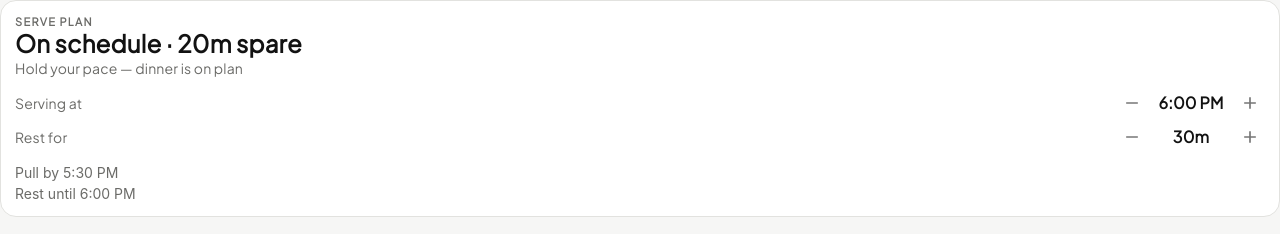
Test: the serve plan card › adds up taps made inside one round trip rather than collapsing them
What coordinates should you click on to do the following:
click the button named "Serve later"
I would click on:
 (1250, 103)
Its box is [1235,88,1265,118].
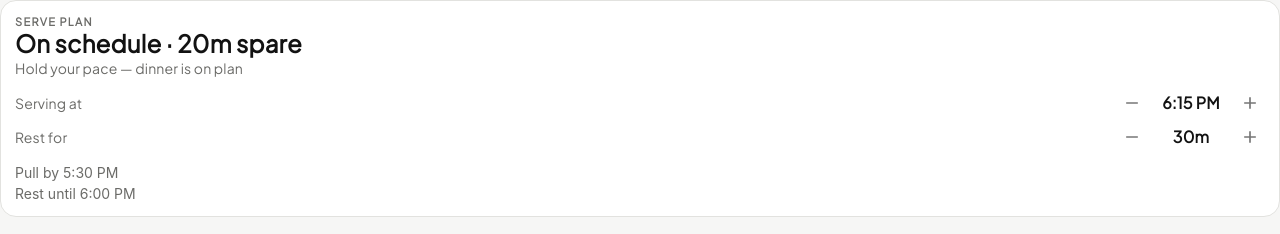
What coordinates should you click on to do the following:
click the button named "Serve later"
I would click on:
 (1250, 103)
Its box is [1235,88,1265,118].
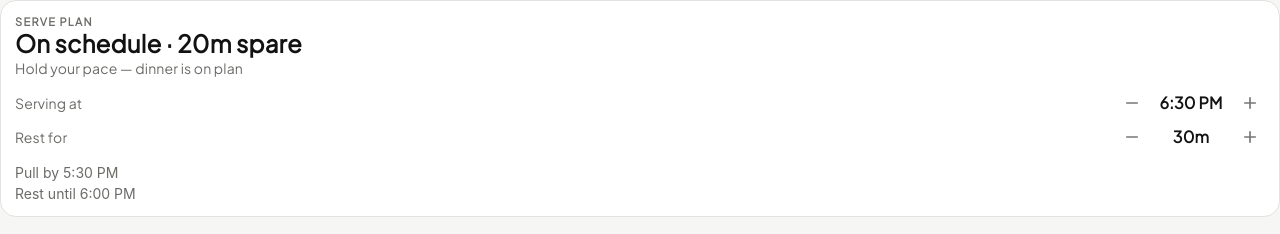
What coordinates should you click on to do the following:
click the button named "Serve later"
I would click on:
 (1250, 103)
Its box is [1235,88,1265,118].
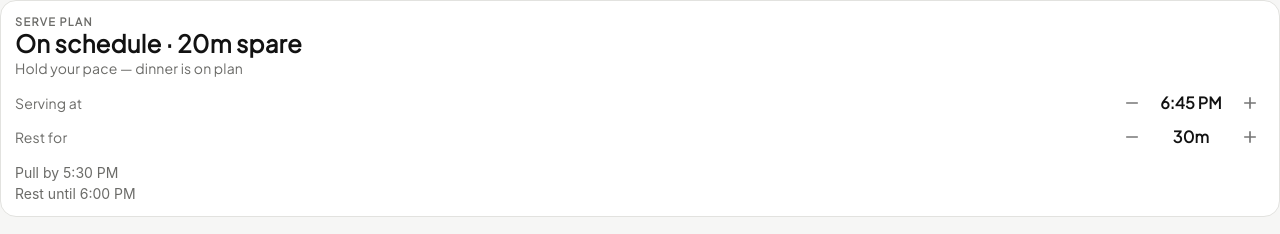
Expected: the text with test id "serve-plan-serve-at" reads "6:45 PM", [1160,92,1222,113]
